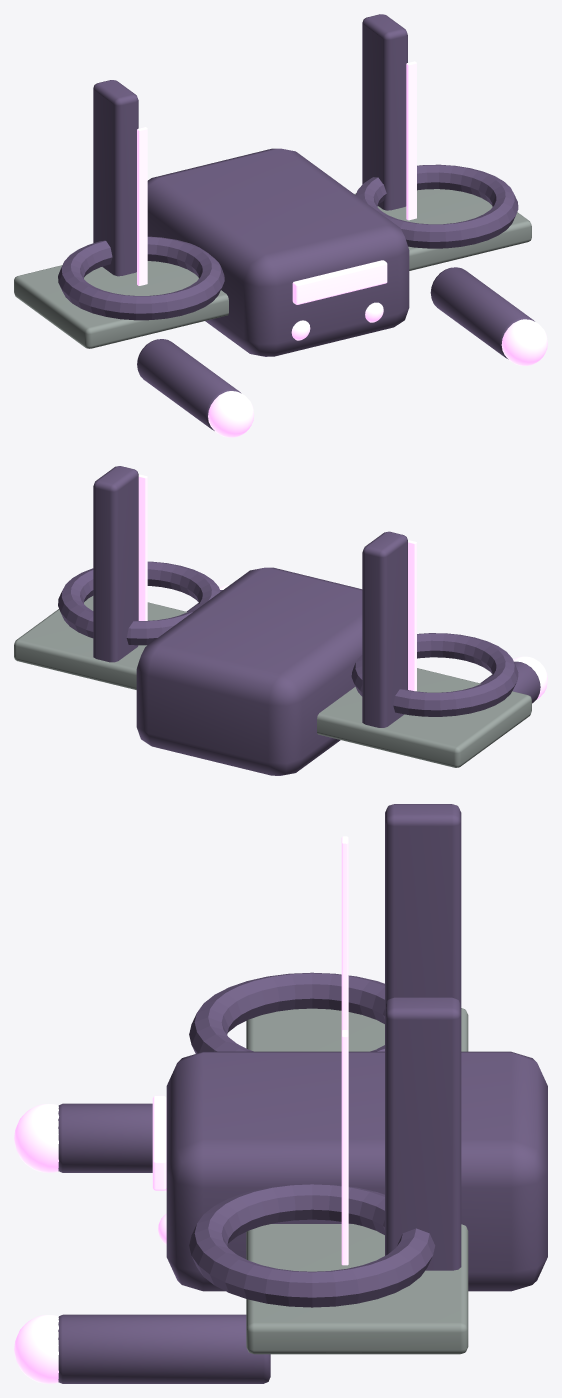
File: card_p4_drone.glb
3 renders of one model, top to bottom at view 1: azimuth 30°, elevation 25°; view 2: azimuth 150°, elevation 25°; view 3: azimuth 270°, elevation 25°, orthographic. The views are drawn at different scales.
Visible parts, largest first — view 1: card_p4_drone; view 2: card_p4_drone; view 3: card_p4_drone.
Boxes of the visible parts, left/top/right/bottom form: card_p4_drone: left=14, top=14, right=547, bottom=437; card_p4_drone: left=14, top=466, right=547, bottom=775; card_p4_drone: left=14, top=804, right=547, bottom=1383.
Size of the model in its own units: 2.19 by 1.18 by 1.54.
